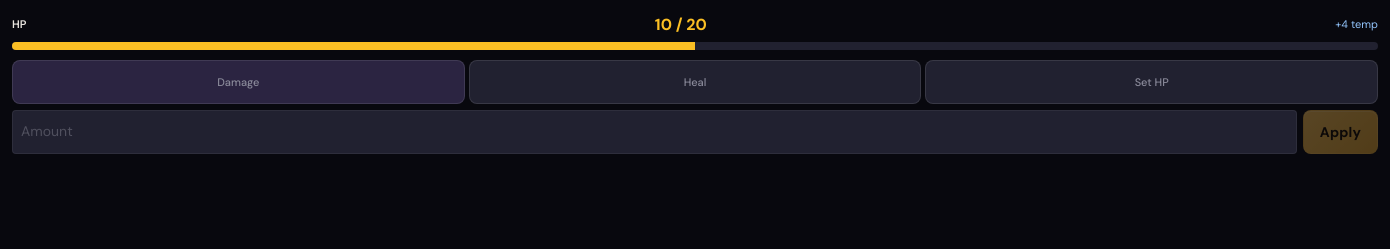
Test case: previews temp-first damage without sending it
In the number field named "HP amount": (654, 132) [12,110,1297,154], type "6"
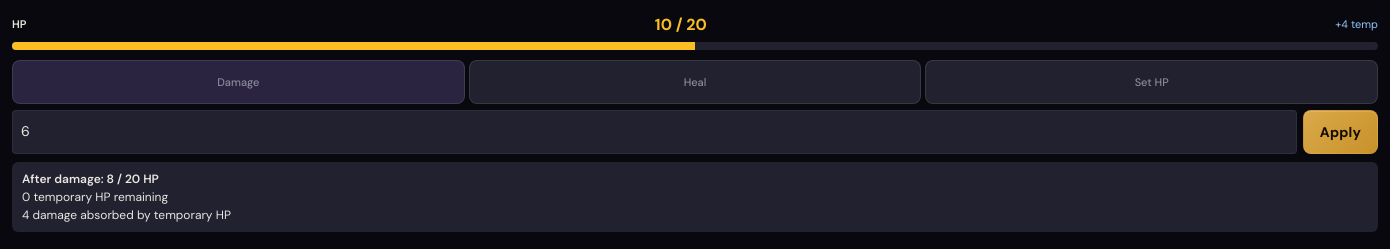
Check: the message named "HP adjustment preview" shows "After damage: 8 / 20 HP", box [12,162,1378,232]
Check: the text "4 damage absorbed by temporary HP" is shown, box [22,207,231,223]
